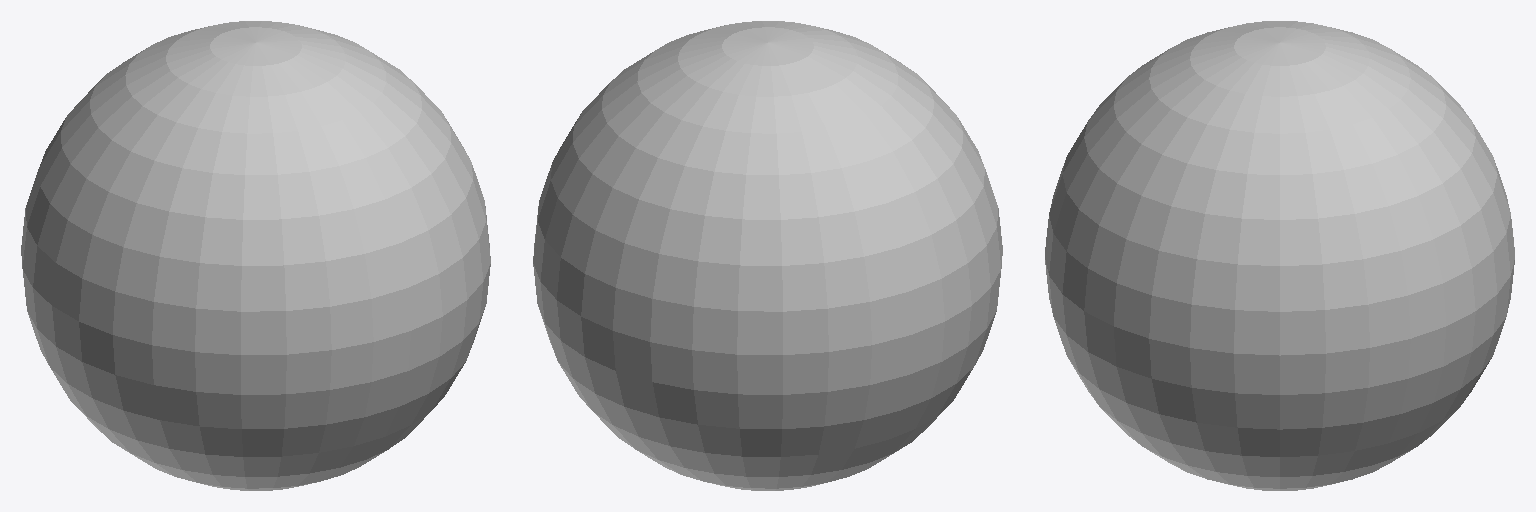
Rendered from planet.obj.
3 renders of one model, left to right at view 1: azimuth 30°, elevation 25°; view 2: azimuth 150°, elevation 25°; view 3: azimuth 270°, elevation 25°, orthographic.
Visible parts, largest first — view 1: Sphere; view 2: Sphere; view 3: Sphere.
Boxes of the visible parts, x1=… form: Sphere: x1=21, y1=21, x2=490, y2=490; Sphere: x1=533, y1=21, x2=1002, y2=490; Sphere: x1=1045, y1=21, x2=1514, y2=490.
Bounding box in the file's own units: 19.02 × 19.02 × 19.02.